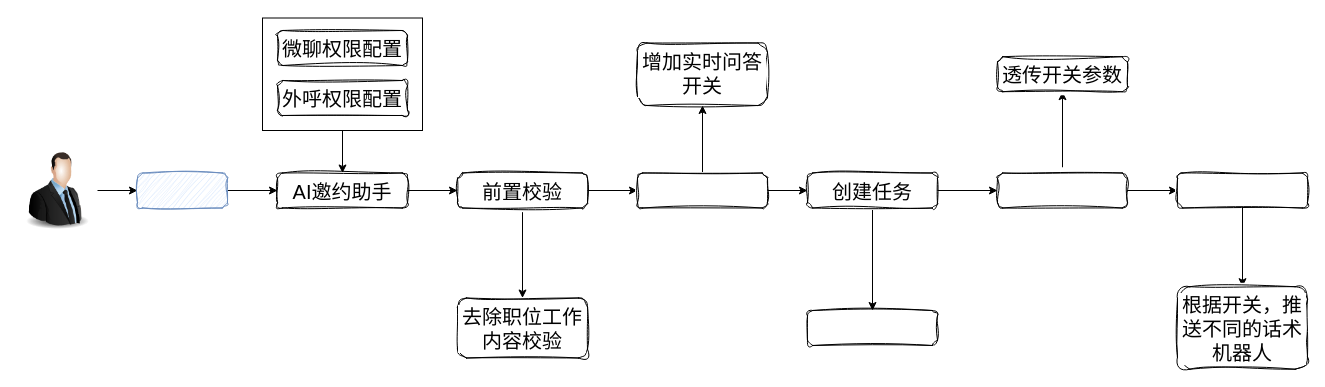
Some shapes in this 1325 by 387 pixel diagram are drawn without their labels. Each missing label, with the centre of its shape:
"任务抽屉" goes at [702,190].
"圈选" goes at [1062,190].
"增加开关参数" goes at [872,328].
"推送" goes at [1242,190].
"邀约管理" goes at [182,190].
